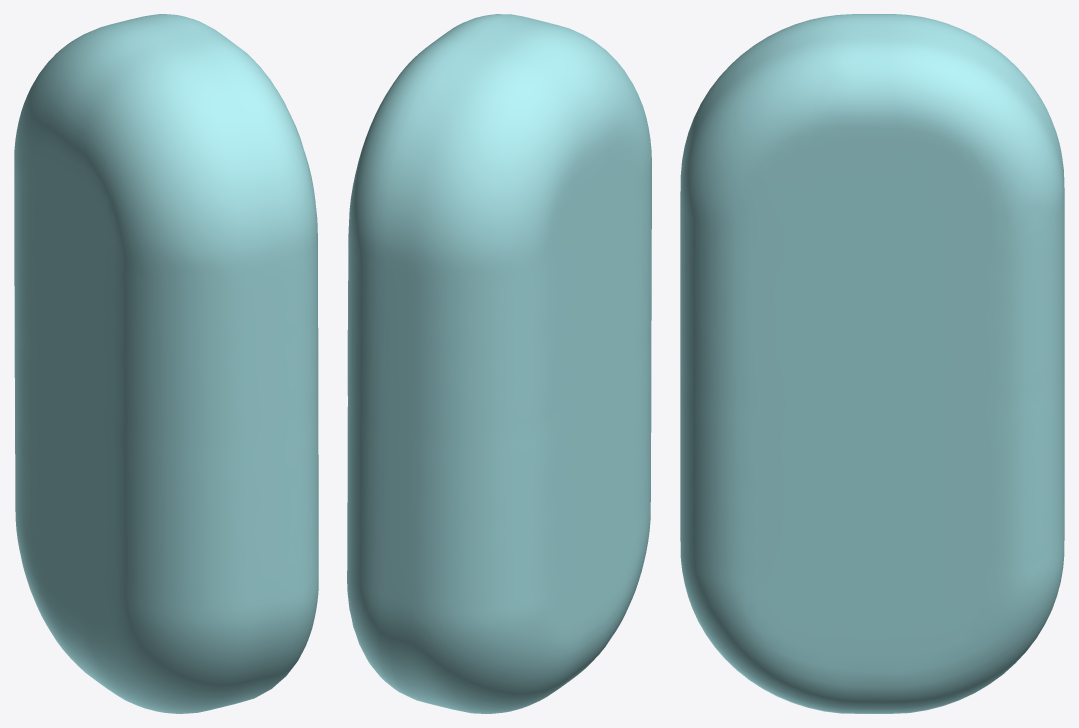
Rendered from Capsule_Pill_Individual_Blue.glb.
3 views of the same model, side by side, from view 1: azimuth 30°, elevation 25°; view 2: azimuth 150°, elevation 25°; view 3: azimuth 270°, elevation 25° (orthographic). The views are drawn at different scales.
Parts seen in each view (by area): view 1: Capsule_Pill.017; view 2: Capsule_Pill.017; view 3: Capsule_Pill.017.
Boxes of the visible parts, x1,y1,x2,y2 form: Capsule_Pill.017: [14, 14, 318, 713]; Capsule_Pill.017: [347, 14, 651, 713]; Capsule_Pill.017: [680, 14, 1064, 713].
Size of the model in its own units: 0.6131 by 2.16 by 1.13.
1 material, 1 textured.
